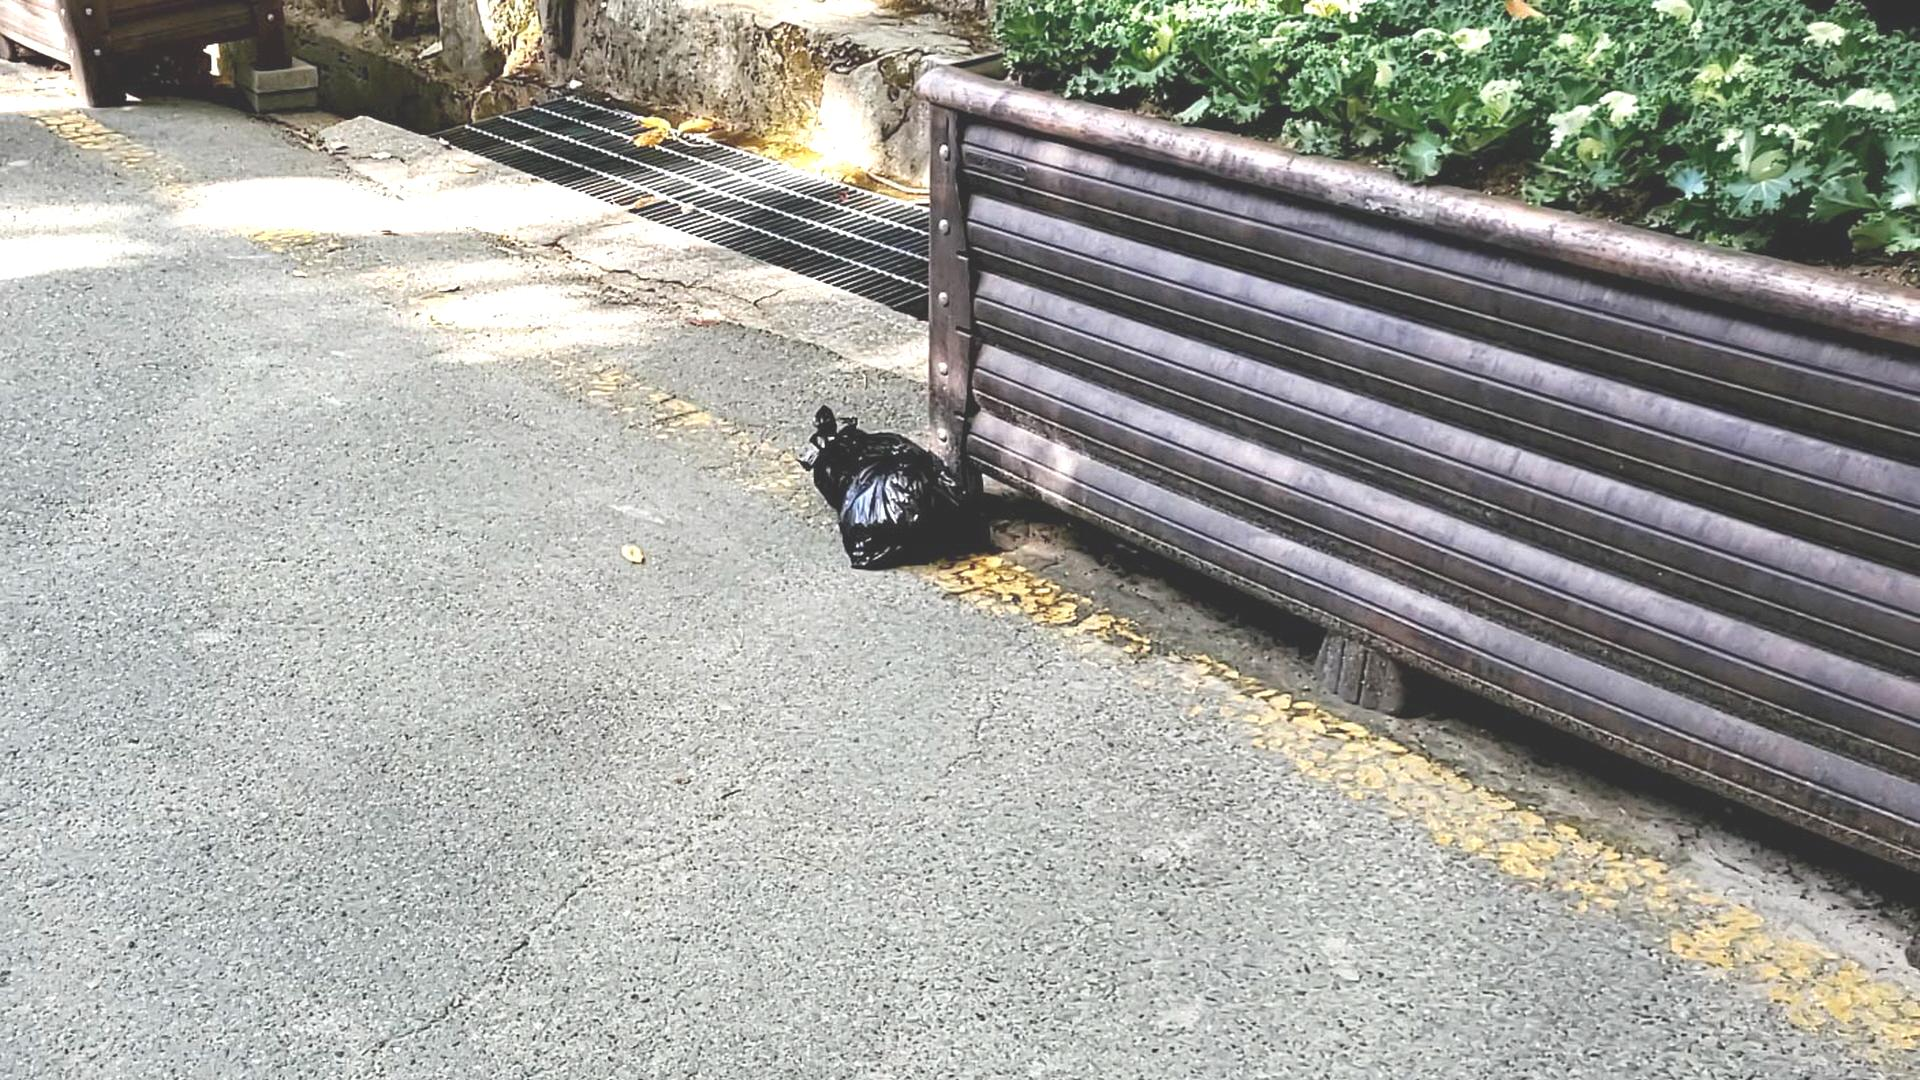black_bag: (783, 401, 989, 587)
